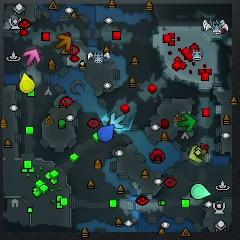p1: (97, 124, 115, 142)
p2: (191, 183, 211, 199)
p4: (19, 73, 35, 93)
x1: (23, 48, 40, 66)
x2: (188, 145, 207, 162)
x3: (110, 112, 126, 128)
x4: (177, 113, 196, 131)
x5: (55, 34, 71, 51)
